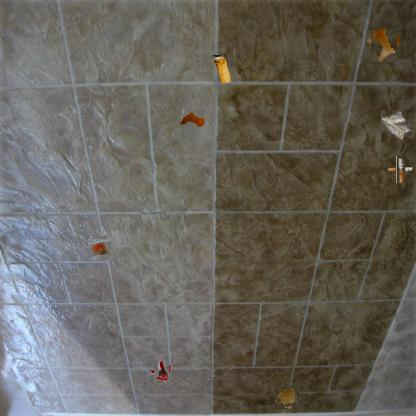dirty: (382, 110, 416, 142), (210, 53, 233, 85), (178, 110, 206, 130), (88, 238, 110, 258), (151, 361, 171, 381), (392, 160, 410, 179)
liquid: (368, 29, 400, 60), (276, 386, 298, 408)
